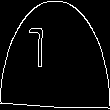L_S: (47, 29, 63, 81)
